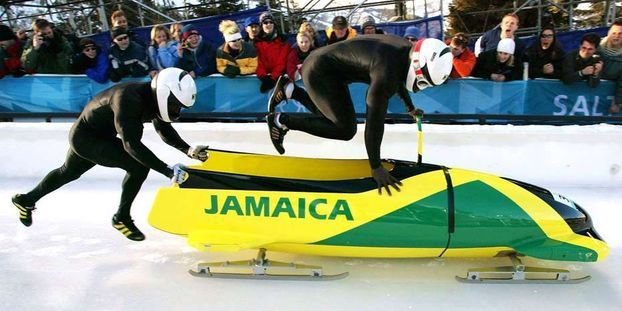Bobsleigh: (149, 148, 611, 280)
